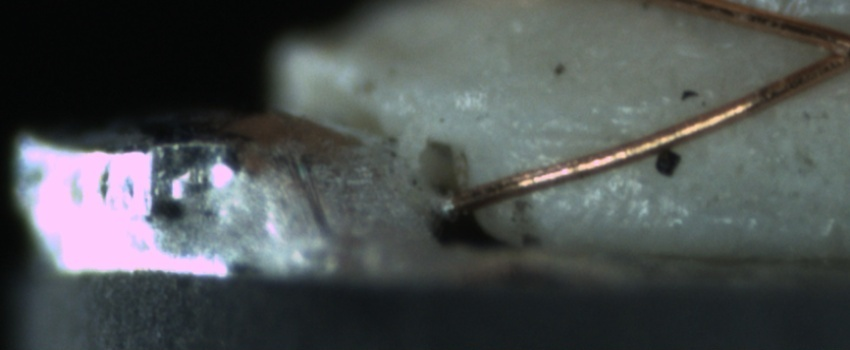CL: (799, 17, 849, 79)
DL: (510, 108, 646, 167)
